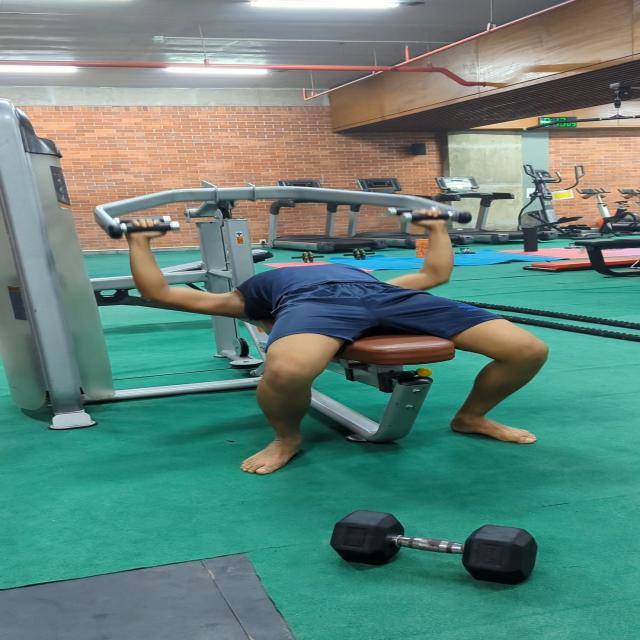Normal_BrenchPress: (106, 206, 584, 487)
